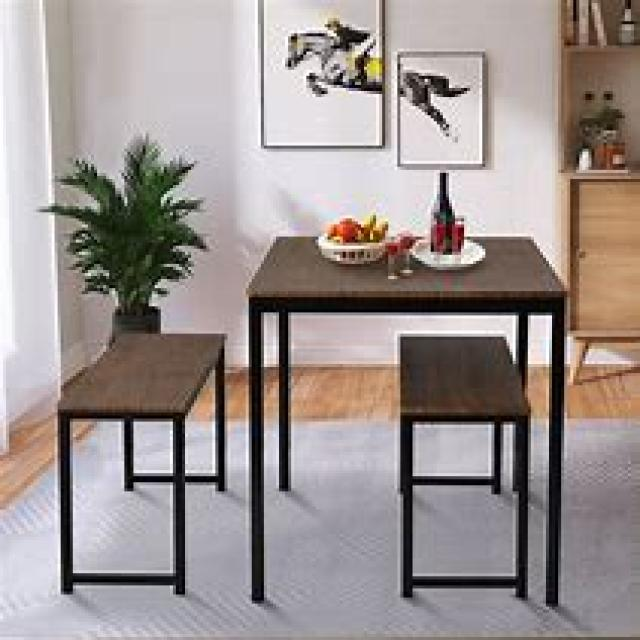table: (246, 231, 567, 604)
